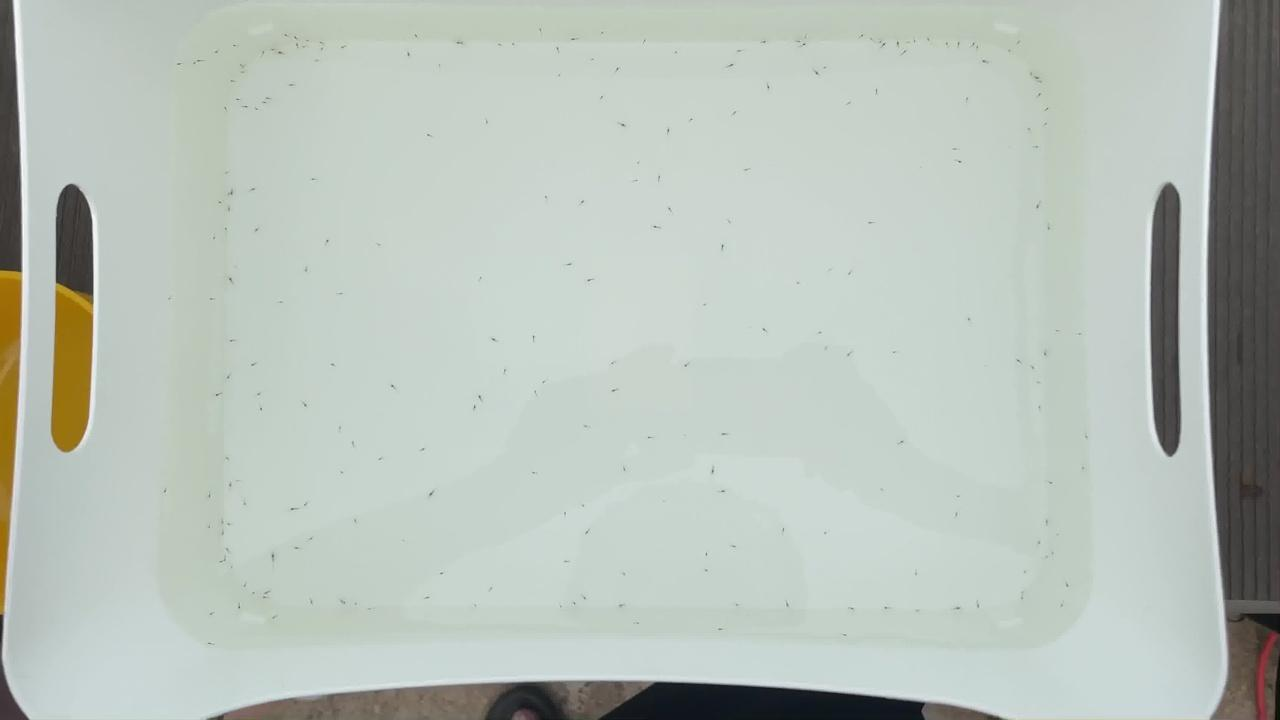shrimp: (896, 439, 909, 447), (953, 606, 966, 614), (863, 218, 876, 226), (953, 157, 966, 165), (1029, 146, 1042, 154), (1034, 79, 1047, 87), (973, 46, 986, 54), (909, 35, 922, 43), (818, 63, 831, 71), (765, 80, 778, 88), (741, 168, 754, 176), (699, 296, 712, 304), (651, 224, 664, 232), (656, 174, 669, 182), (588, 58, 601, 66), (595, 30, 608, 38), (606, 356, 619, 364), (580, 428, 593, 436), (631, 617, 644, 625), (467, 401, 480, 409), (482, 583, 495, 591), (427, 489, 440, 497), (334, 595, 347, 603), (303, 594, 316, 602), (258, 595, 271, 603), (219, 556, 232, 564), (224, 545, 237, 553), (159, 490, 172, 498), (249, 362, 262, 370), (229, 334, 242, 342), (204, 295, 217, 303), (249, 185, 262, 193), (236, 68, 249, 76), (269, 46, 282, 54), (1033, 539, 1045, 547), (751, 418, 763, 426), (1033, 202, 1045, 210), (402, 52, 414, 60), (474, 273, 486, 281), (529, 334, 541, 342), (236, 63, 248, 71), (263, 96, 275, 104), (1061, 583, 1074, 590), (1013, 594, 1026, 601), (1020, 569, 1033, 576), (1039, 556, 1052, 563), (1045, 549, 1058, 556), (1051, 530, 1064, 537), (1042, 517, 1055, 524), (1080, 464, 1093, 471), (1079, 433, 1092, 440), (1034, 402, 1047, 409), (1032, 380, 1045, 387), (1028, 366, 1041, 373), (1012, 356, 1025, 363), (1039, 348, 1052, 355), (1051, 333, 1064, 340), (1073, 331, 1086, 338), (964, 315, 977, 322), (887, 351, 900, 358), (841, 351, 854, 358), (818, 341, 831, 348), (877, 487, 890, 494), (973, 600, 986, 607), (913, 568, 926, 575), (914, 612, 927, 619), (881, 604, 894, 611), (846, 606, 859, 613), (781, 603, 794, 610), (732, 603, 745, 610), (716, 625, 729, 632), (700, 567, 713, 574), (700, 553, 713, 560), (723, 543, 736, 550), (716, 485, 729, 492), (722, 430, 735, 437), (759, 328, 772, 335), (791, 278, 804, 285), (846, 269, 859, 276), (1023, 128, 1036, 135), (1041, 120, 1054, 127), (1035, 94, 1048, 101), (1030, 72, 1043, 79), (1027, 72, 1040, 79), (1013, 34, 1026, 41), (1004, 47, 1017, 54), (980, 61, 993, 68), (966, 42, 979, 49), (951, 42, 964, 49), (941, 44, 954, 51), (961, 95, 974, 102), (905, 37, 918, 44), (897, 56, 910, 63), (892, 39, 905, 46), (876, 44, 889, 51), (876, 36, 889, 43), (856, 30, 869, 37), (872, 89, 885, 96), (844, 101, 857, 108), (797, 41, 810, 48), (798, 33, 811, 40), (790, 36, 803, 43), (760, 39, 773, 46), (723, 63, 736, 70), (725, 220, 738, 227), (715, 244, 728, 251), (683, 364, 696, 371), (662, 208, 675, 215), (633, 177, 646, 184), (632, 161, 645, 168), (616, 119, 629, 126), (596, 94, 609, 101), (609, 68, 622, 75), (637, 39, 650, 46), (671, 47, 684, 54), (552, 48, 565, 55), (566, 37, 579, 44), (536, 25, 549, 32), (508, 41, 521, 48), (491, 39, 504, 46), (455, 36, 468, 43), (435, 67, 448, 74), (408, 37, 421, 44), (421, 135, 434, 142), (578, 198, 591, 205), (565, 262, 578, 269), (582, 276, 595, 283), (605, 385, 618, 392), (646, 434, 659, 441), (561, 509, 574, 516), (531, 468, 544, 475), (576, 503, 589, 510), (558, 561, 571, 568), (579, 599, 592, 606), (619, 570, 632, 577), (476, 392, 489, 399), (488, 339, 501, 346), (537, 383, 550, 390), (527, 395, 540, 402), (434, 569, 447, 576), (398, 538, 411, 545), (417, 447, 430, 454), (375, 457, 388, 464), (334, 425, 347, 432), (340, 474, 353, 481), (364, 605, 377, 612), (267, 614, 280, 621), (204, 640, 217, 647), (207, 609, 220, 616), (234, 606, 247, 613), (262, 591, 275, 598), (249, 592, 262, 599), (224, 567, 237, 574), (214, 558, 227, 565), (218, 527, 231, 534), (224, 519, 237, 526), (216, 520, 229, 527), (199, 522, 212, 529), (203, 492, 216, 499), (226, 480, 239, 487), (221, 454, 234, 461), (239, 503, 252, 510), (267, 553, 280, 560), (289, 541, 302, 548), (302, 533, 315, 540), (287, 510, 300, 517), (255, 406, 268, 413), (298, 402, 311, 409), (327, 360, 340, 367), (224, 278, 237, 285), (301, 266, 314, 273), (337, 292, 350, 299), (321, 239, 334, 246), (375, 240, 388, 247), (371, 160, 384, 167), (310, 175, 323, 182), (221, 222, 234, 229), (209, 234, 222, 241), (225, 205, 238, 212), (226, 188, 239, 195), (173, 59, 186, 66), (186, 59, 199, 66), (194, 57, 207, 64), (209, 47, 222, 54), (227, 45, 240, 52), (227, 75, 240, 82), (234, 94, 247, 101), (220, 106, 233, 113), (240, 105, 253, 112), (247, 104, 260, 111), (256, 98, 269, 105), (289, 84, 302, 91), (277, 48, 290, 55), (280, 30, 293, 37), (289, 35, 302, 42), (289, 42, 302, 49), (300, 44, 313, 51), (314, 39, 327, 46), (315, 48, 328, 55), (380, 108, 393, 115), (659, 498, 672, 505), (1056, 604, 1068, 611), (1017, 594, 1029, 601), (1045, 482, 1057, 489), (817, 331, 829, 338), (956, 493, 968, 500), (950, 511, 962, 518), (840, 631, 852, 638), (778, 525, 790, 532), (823, 531, 835, 538), (707, 464, 719, 471), (1044, 226, 1056, 233), (950, 146, 962, 153), (1044, 105, 1056, 112), (923, 35, 935, 42), (867, 37, 879, 44), (812, 70, 824, 77), (734, 48, 746, 55), (729, 113, 741, 120), (662, 127, 674, 134), (684, 115, 696, 122), (557, 72, 569, 79), (480, 117, 492, 124), (541, 196, 553, 203), (618, 467, 630, 474), (579, 531, 591, 538), (568, 602, 580, 609), (552, 608, 564, 615), (618, 602, 630, 609), (502, 373, 514, 380), (419, 598, 431, 605), (469, 603, 481, 610), (385, 381, 397, 388), (347, 441, 359, 448), (352, 520, 364, 527), (241, 582, 253, 589), (297, 500, 309, 507), (253, 390, 265, 397), (214, 391, 226, 398), (225, 374, 237, 381), (275, 299, 287, 306), (253, 227, 265, 234), (214, 197, 226, 204), (225, 170, 237, 177), (258, 51, 270, 58), (336, 46, 348, 53), (308, 57, 320, 64)
